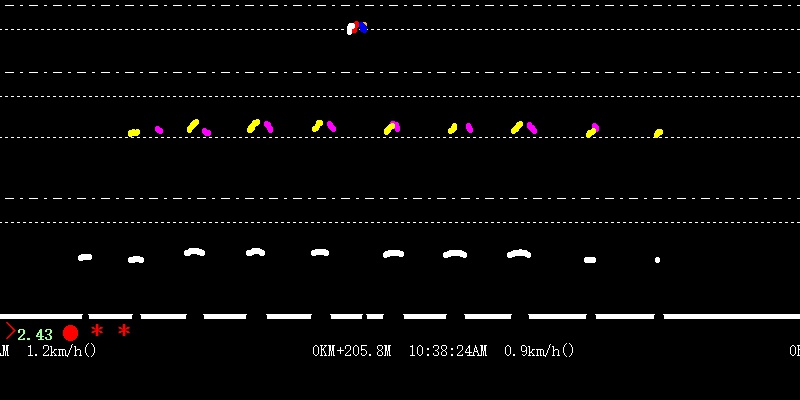circle: (58, 322, 84, 342)
face_2: (346, 17, 368, 36)
star: (116, 324, 134, 339), (92, 322, 104, 336)
y_p: (176, 110, 546, 271)
